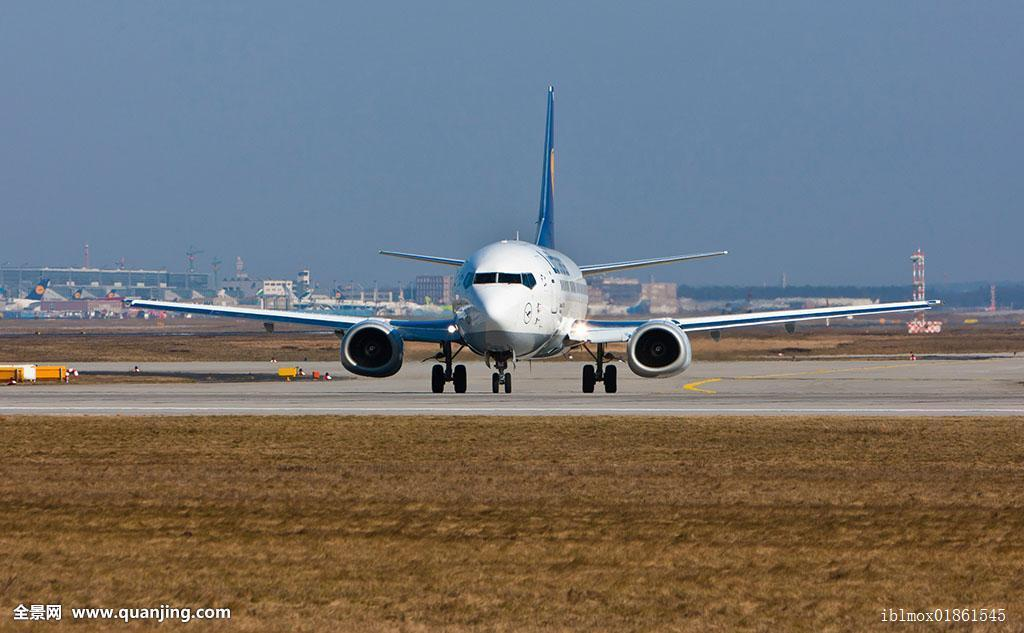airplane: (126, 78, 946, 375)
